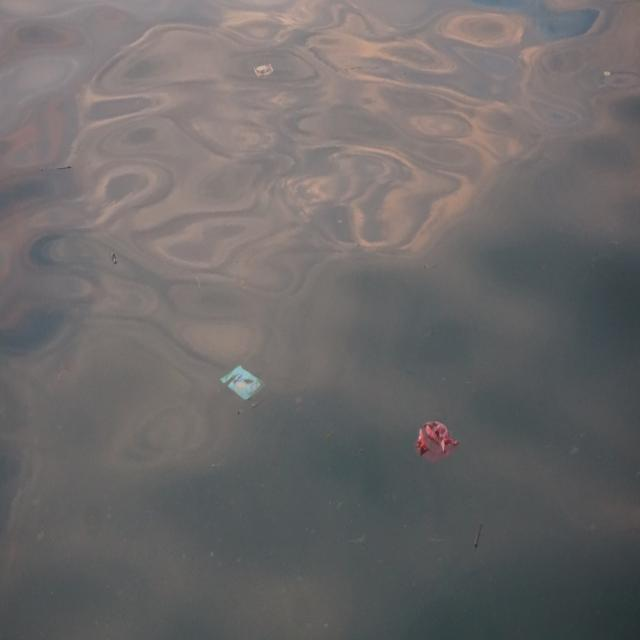Bungkus Makanan: (221, 358, 267, 408)
Kantong Plastik: (411, 418, 462, 467)
